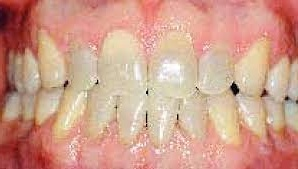Tooth Discoloration: (36, 25, 275, 77)
